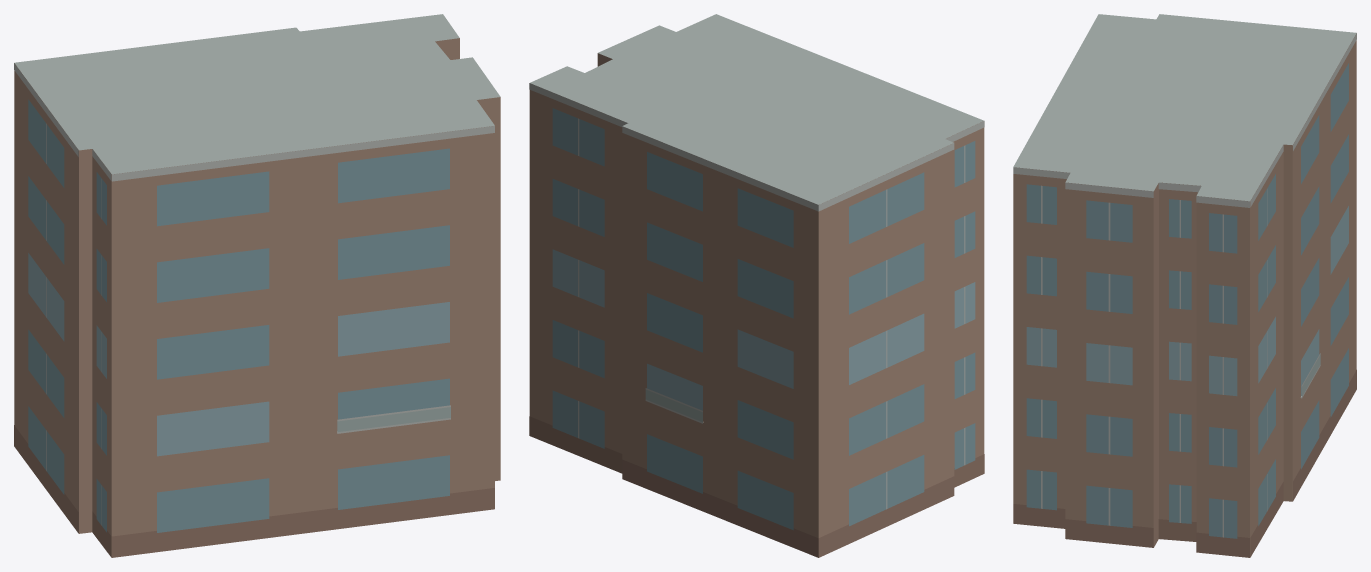
The model's file is survey-upis-32643031.glb.
3 views of the same model, side by side, from view 1: azimuth 30°, elevation 25°; view 2: azimuth 150°, elevation 25°; view 3: azimuth 270°, elevation 25° (orthographic). The views are drawn at different scales.
Parts seen in each view (by area): view 1: survey-upis-32643031.tmp; view 2: survey-upis-32643031.tmp; view 3: survey-upis-32643031.tmp.
Boxes of the visible parts, x1,y1,x2,y2 form: survey-upis-32643031.tmp: (14,14,500,557); survey-upis-32643031.tmp: (529,14,984,557); survey-upis-32643031.tmp: (1013,14,1356,557).
Size of the model in its own units: 14.66 by 13 by 11.37.
